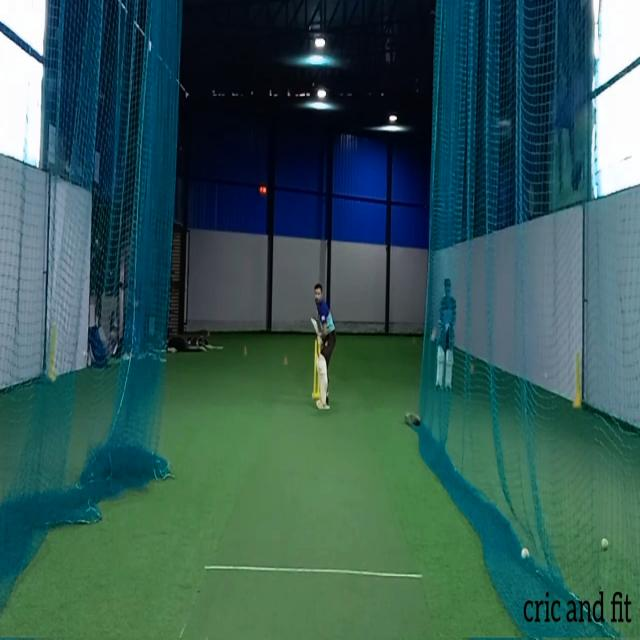batsman: (309, 282, 338, 411)
